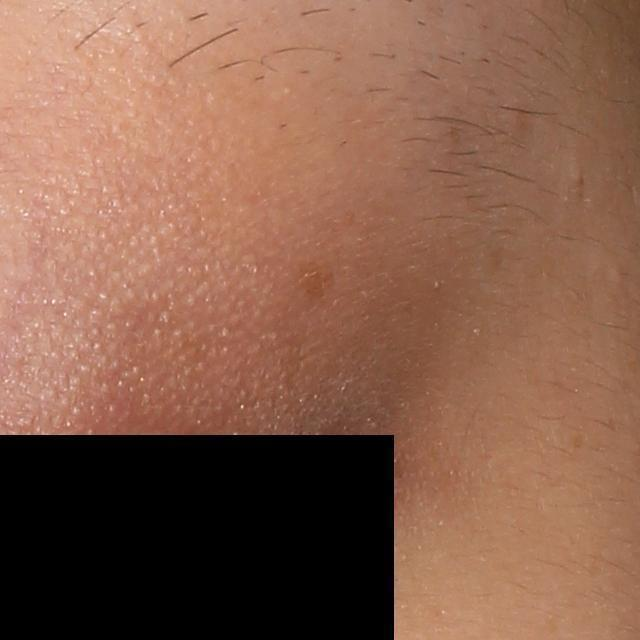melasma: (296, 249, 336, 296)
